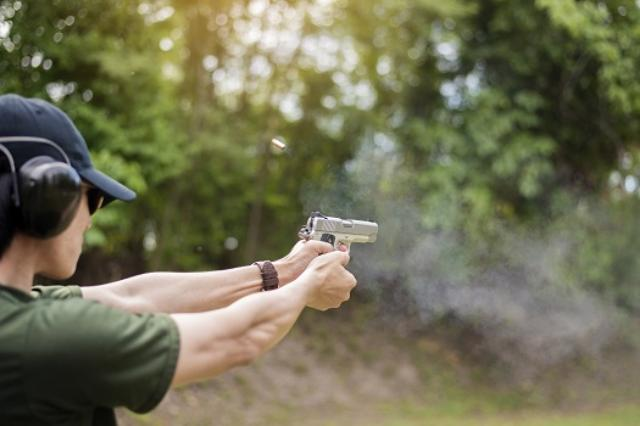handgun: (297, 208, 381, 274)
